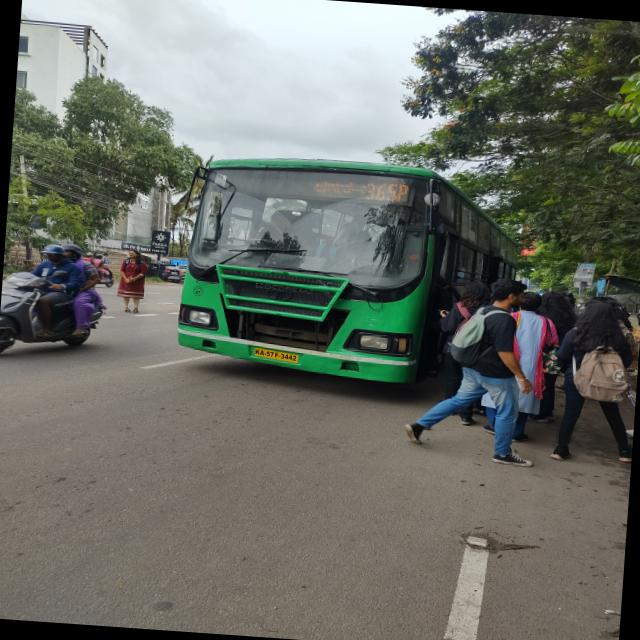bus: (154, 136, 490, 398)
display: (218, 166, 412, 208)
dnumber: (365, 180, 408, 203)
